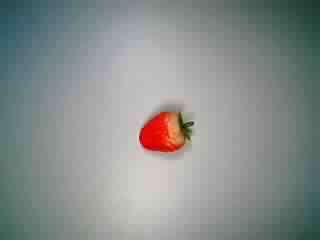strawberry: (134, 100, 199, 162)
